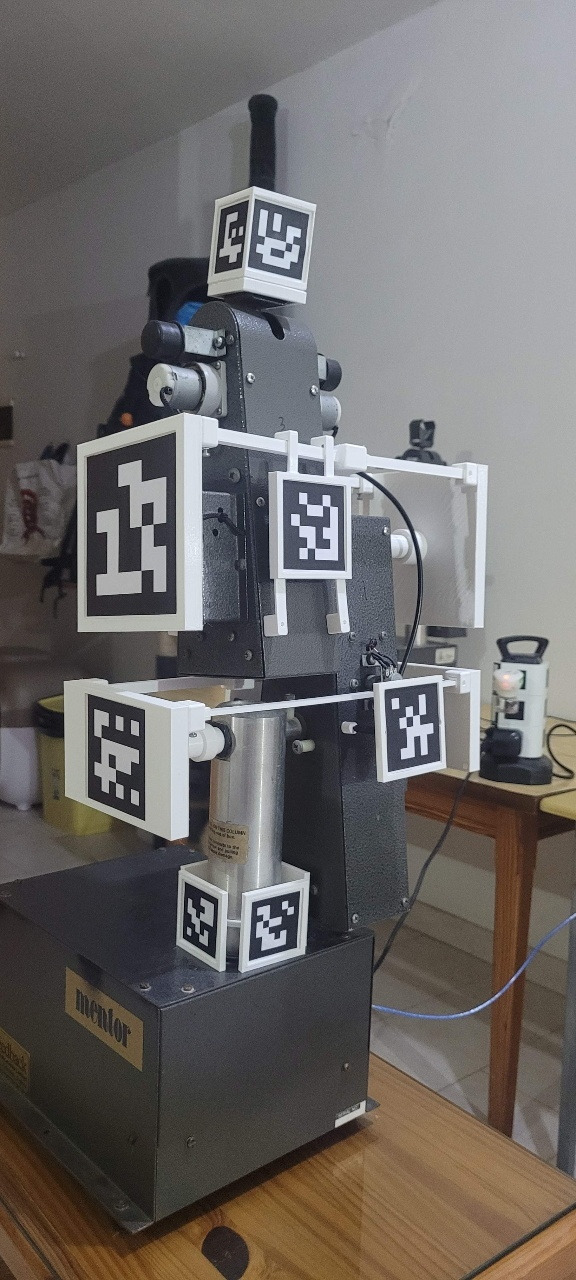Robot: (7, 248, 533, 1016)
